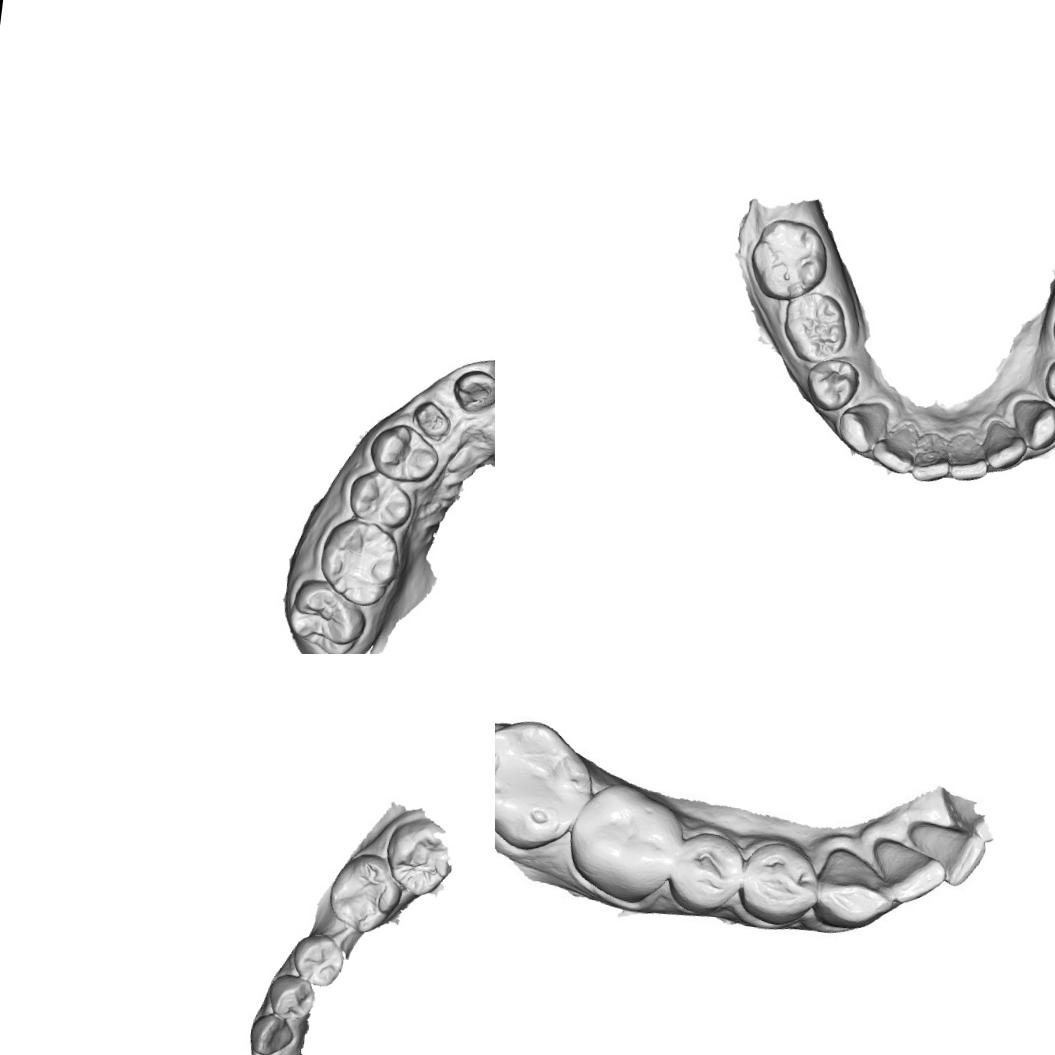canine: (812, 847, 900, 940), (834, 398, 885, 458), (1008, 395, 1055, 455), (245, 1011, 297, 1055)
crown: (449, 366, 495, 418), (410, 398, 456, 442)
incisor: (869, 834, 948, 912), (904, 818, 990, 887), (868, 423, 923, 478), (938, 430, 992, 484), (980, 423, 1031, 477), (910, 428, 956, 486)
molar: (563, 776, 686, 905), (495, 713, 600, 856), (315, 516, 405, 610), (746, 214, 834, 305), (324, 848, 408, 938), (281, 574, 371, 654), (380, 813, 455, 902), (778, 288, 854, 368)
premolar: (735, 832, 822, 922), (665, 826, 750, 914), (366, 420, 444, 487), (344, 468, 417, 530), (800, 352, 864, 415), (288, 930, 348, 990), (262, 970, 318, 1023), (1040, 351, 1055, 414)
